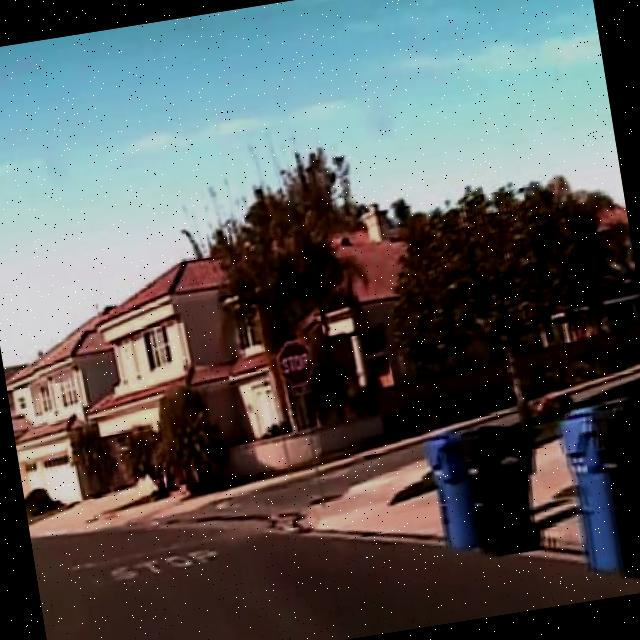Stop: (275, 336, 317, 388)
